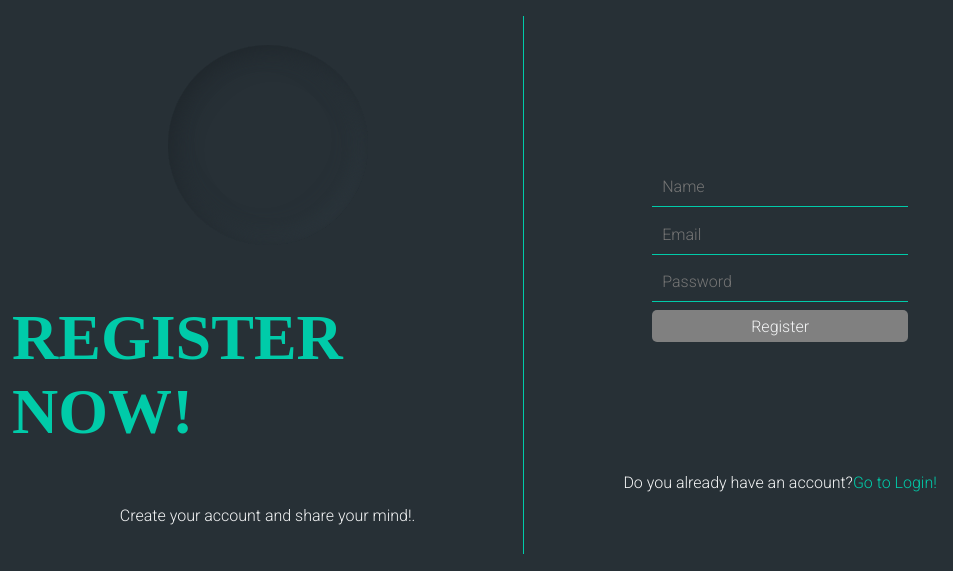
it: Register fail › should try to register with a invalid type email
Type "cypress" into the field with placeholder "Name". click: (780, 187)
box: x1=652 y1=167 x2=908 y2=207
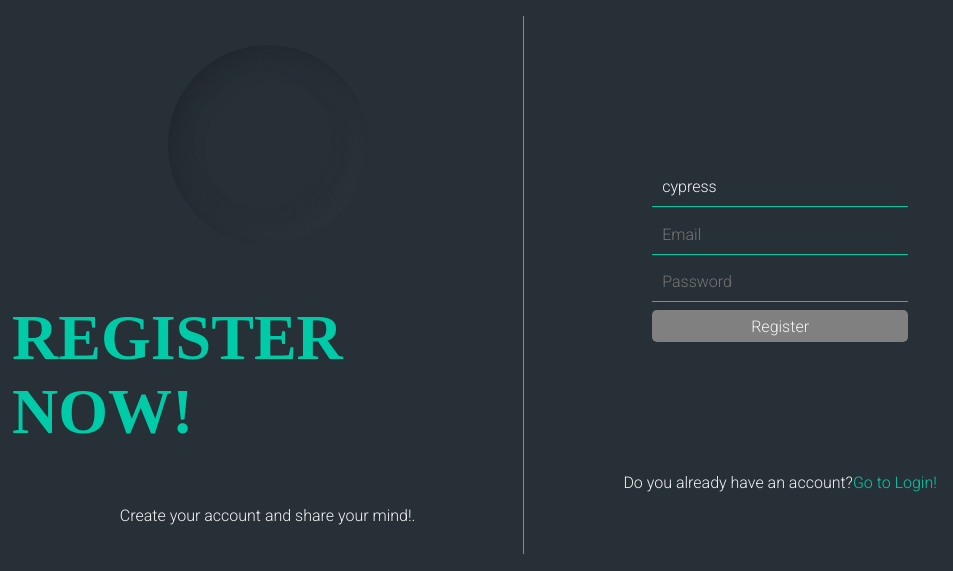
Type "cypress@" into the field with placeholder "Email". click: (780, 235)
box: x1=652 y1=215 x2=908 y2=255
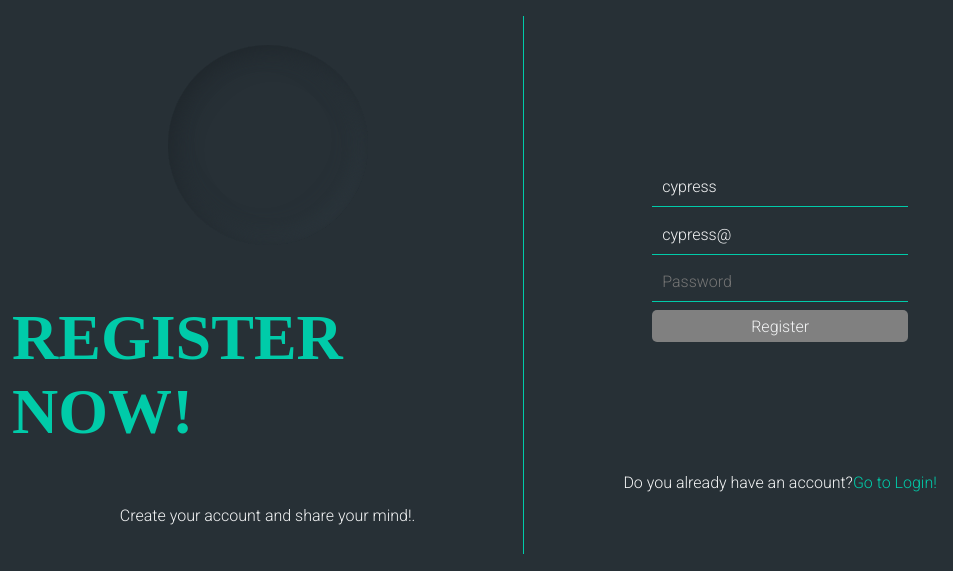
Type "123" into the password field with placeholder "Password". click: (780, 282)
box: x1=652 y1=262 x2=908 y2=302
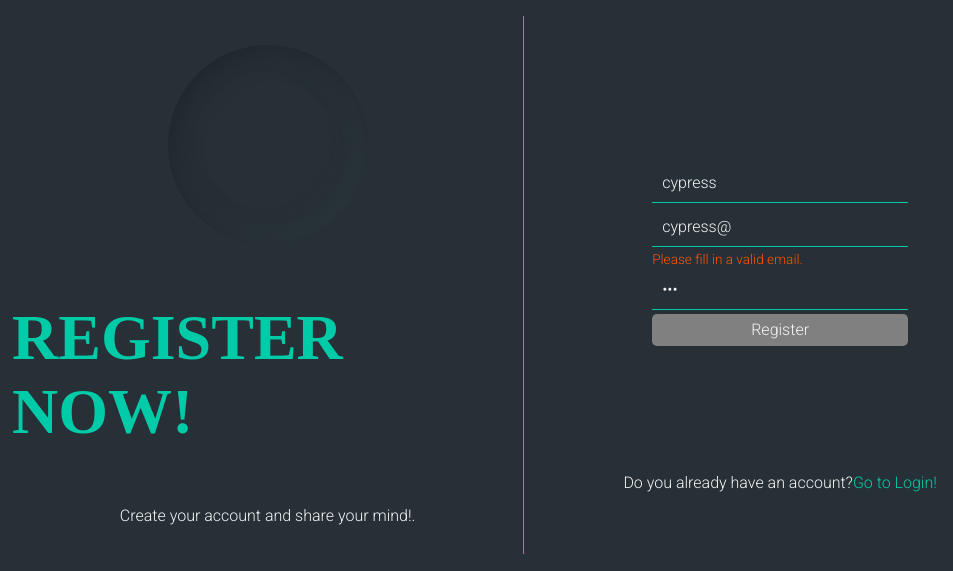
Expected: the text "Please fill in a valid email" is shown, x1=652 y1=251 x2=803 y2=267
